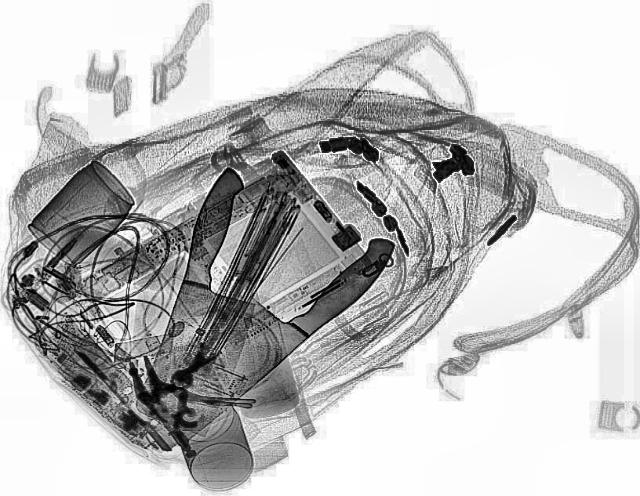Knife: (123, 211, 409, 447), (122, 164, 304, 441)
